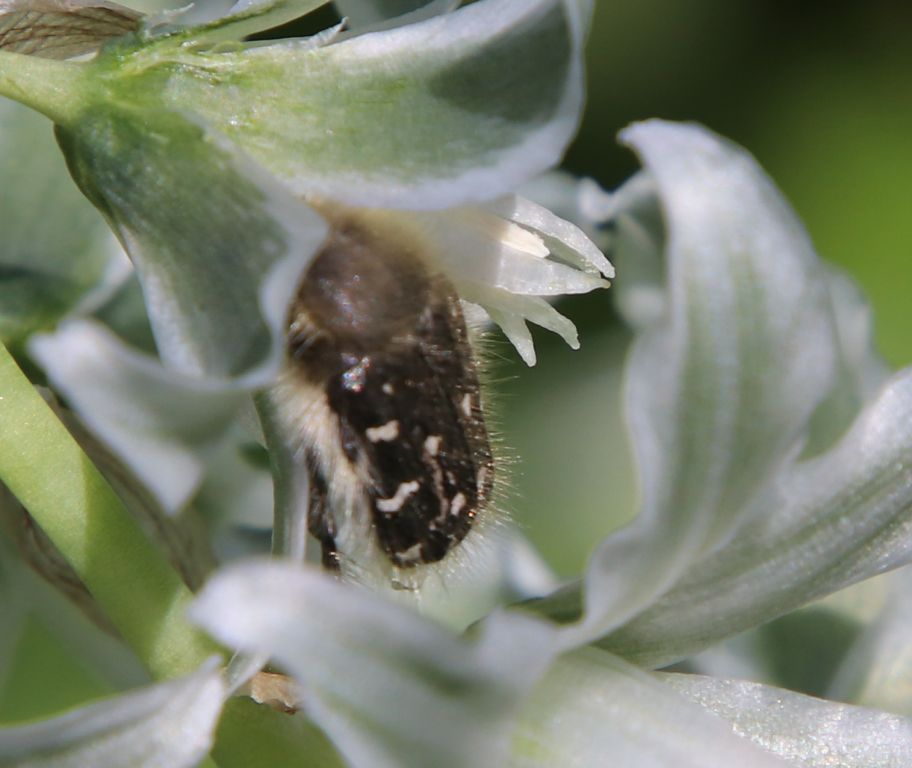Tropinota_hirta: (256, 200, 546, 600)
